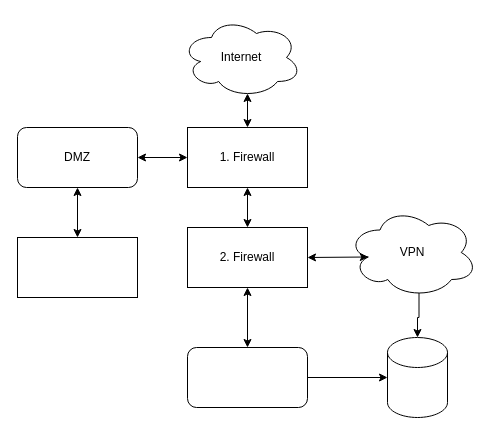
Image size: 495x435. Some labels were removed from this diagram. The shapes that lost their labels are listed below. From the top down, each one's centre as x and y in pixels, then its label:
At [77,267]: "Services (Docker) simple-school-tool".
At [247,377]: "Intranet".
At [417,377]: "intern resources".
